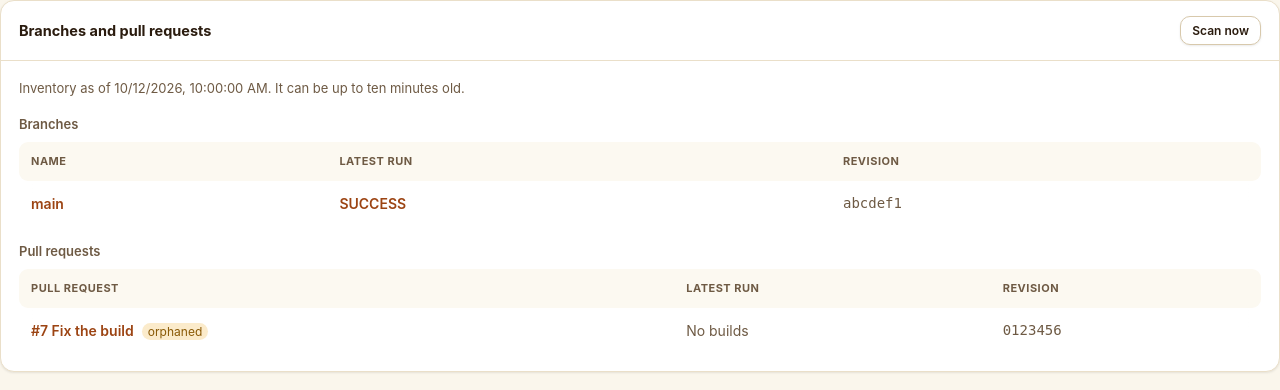
Test: MultibranchCard › says when the scan request itself fails
The width and height of the screenshot is (1280, 390).
Click the button "Scan now".
click(1221, 30)  # box [1180,16,1261,45]
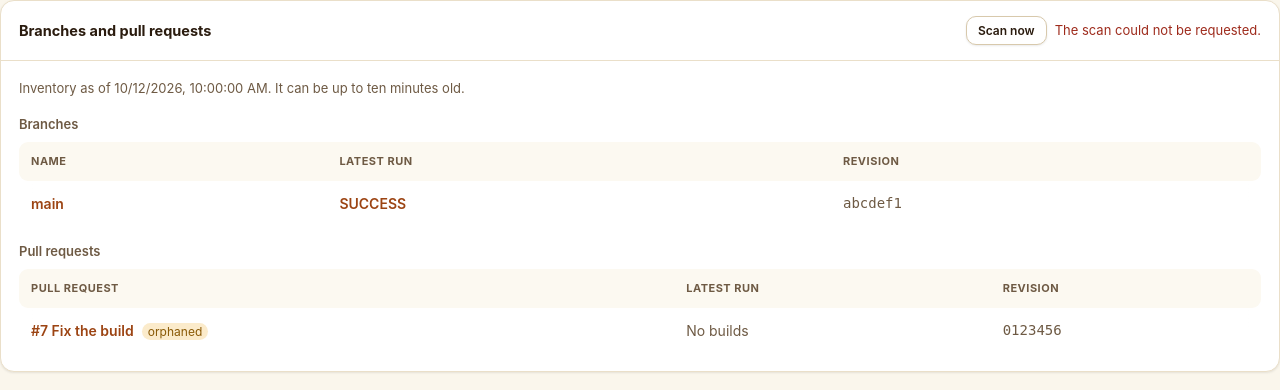
Expected: the text "The scan could not be requested." is shown, [1055,21,1261,40]
